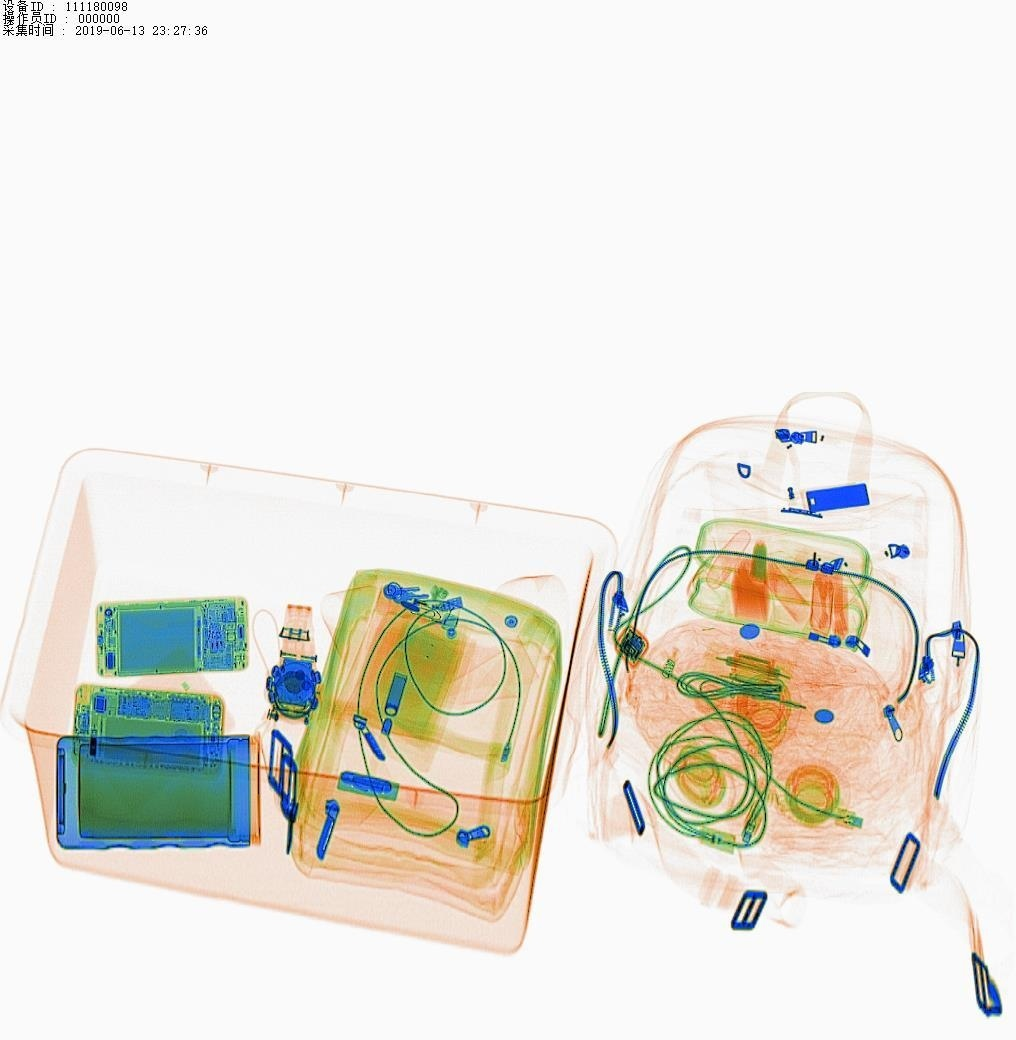NonmetallicFire: (364, 572, 494, 636)
